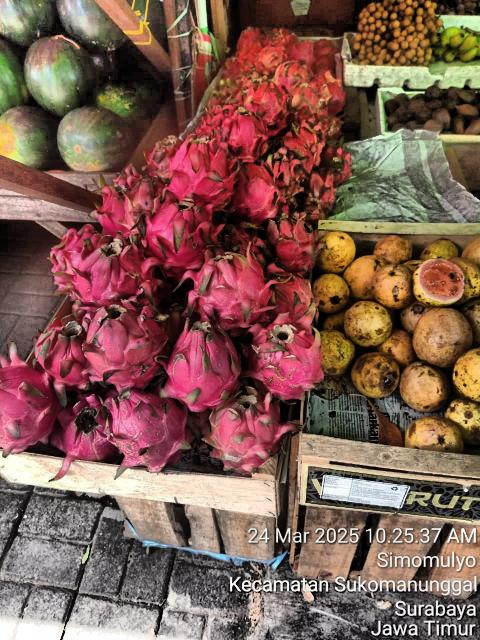buah-naga-matang: (78, 293, 170, 382), (104, 386, 194, 476), (212, 378, 290, 472), (167, 316, 243, 412), (182, 242, 268, 326), (247, 314, 327, 396), (138, 188, 222, 264), (0, 353, 60, 453), (72, 236, 160, 300), (165, 133, 235, 203), (50, 389, 116, 458), (32, 310, 90, 386), (264, 212, 322, 272), (232, 151, 280, 221), (265, 263, 317, 323), (52, 222, 94, 288), (218, 105, 268, 159), (92, 178, 132, 234), (263, 145, 303, 201), (124, 165, 164, 217), (248, 77, 292, 123), (218, 223, 270, 259), (298, 169, 336, 215), (320, 142, 358, 185), (143, 135, 179, 177), (282, 133, 316, 171)
